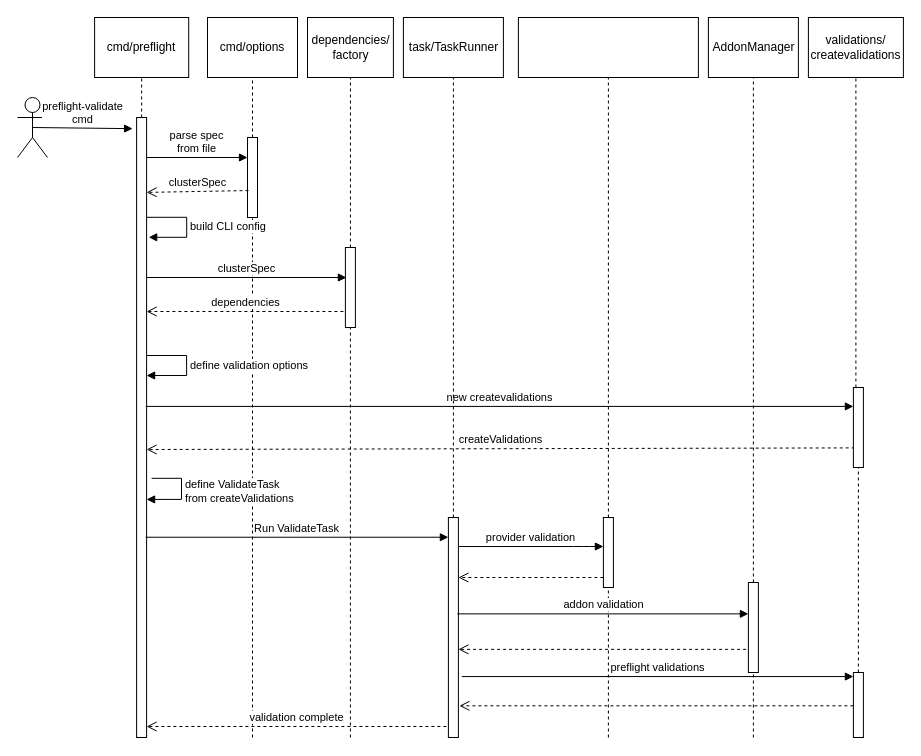
Some shapes in this 921 by 756 pixel diagram are drawn without their labels. Here are the shapes that lost their labels. From the top down, the centre of each, then its label:
(607,47): providers/ SetupAndValidateCreateCluster
(32,127): Actor
